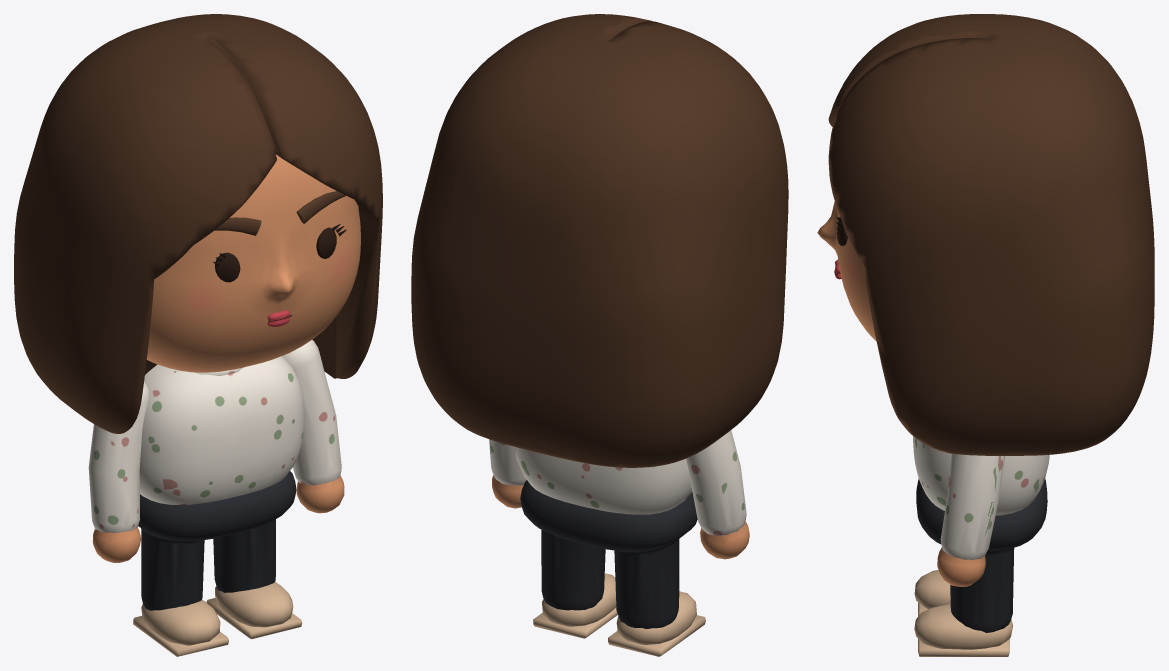
File: mette.glb
The picture shows the model from 3 angles, left to right: view 1: azimuth 30°, elevation 25°; view 2: azimuth 150°, elevation 25°; view 3: azimuth 270°, elevation 25°; orthographic projection. The views are drawn at different scales.
Visible parts, largest first — view 1: head, body, arm_r, arm_l, eye_r; view 2: head, body, arm_r, arm_l; view 3: head, body, arm_l.
Boxes of the visible parts, box(x1,y1,x2,y2) form: head: box(14, 14, 382, 433); body: box(133, 356, 304, 656); arm_r: box(88, 381, 148, 562); arm_l: box(282, 339, 344, 513); eye_r: box(215, 252, 240, 282); head: box(411, 14, 788, 467); body: box(514, 446, 705, 656); arm_r: box(686, 430, 749, 559); arm_l: box(489, 439, 526, 508); head: box(817, 14, 1154, 455); body: box(913, 436, 1049, 656); arm_l: box(937, 453, 1005, 586).
Bounding box in the file's own units: 1.07 × 1.98 × 1.02.
Materials: 14 (4 with a texture image).
